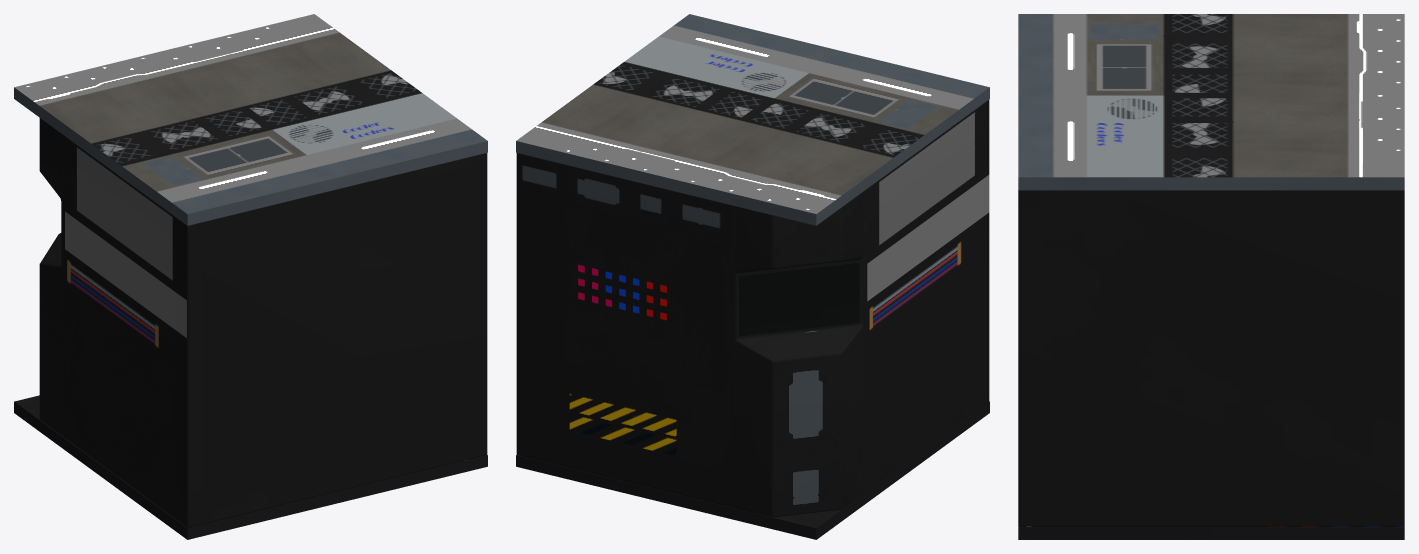
File: Corner.fbx
The picture shows the model from 3 angles, left to right: view 1: azimuth 30°, elevation 25°; view 2: azimuth 150°, elevation 25°; view 3: azimuth 270°, elevation 25°; orthographic projection. The views are drawn at different scales.
Visible parts, largest first — view 1: Cube, Plane.001, Plane; view 2: Cube, Plane.001, Plane; view 3: Cube, Plane.001, Plane.
Part boxes in pixels (x1=…): Cube: x1=39, y1=118, x2=487, y2=527; Plane.001: x1=14, y1=14, x2=487, y2=225; Plane: x1=14, y1=395, x2=487, y2=539; Cube: x1=516, y1=99, x2=989, y2=517; Plane.001: x1=516, y1=14, x2=989, y2=225; Plane: x1=516, y1=401, x2=989, y2=539; Cube: x1=1018, y1=190, x2=1404, y2=526; Plane.001: x1=1018, y1=14, x2=1404, y2=190; Plane: x1=1018, y1=526, x2=1404, y2=539.
Bounding box in the file's own units: 200 × 207 × 200.
